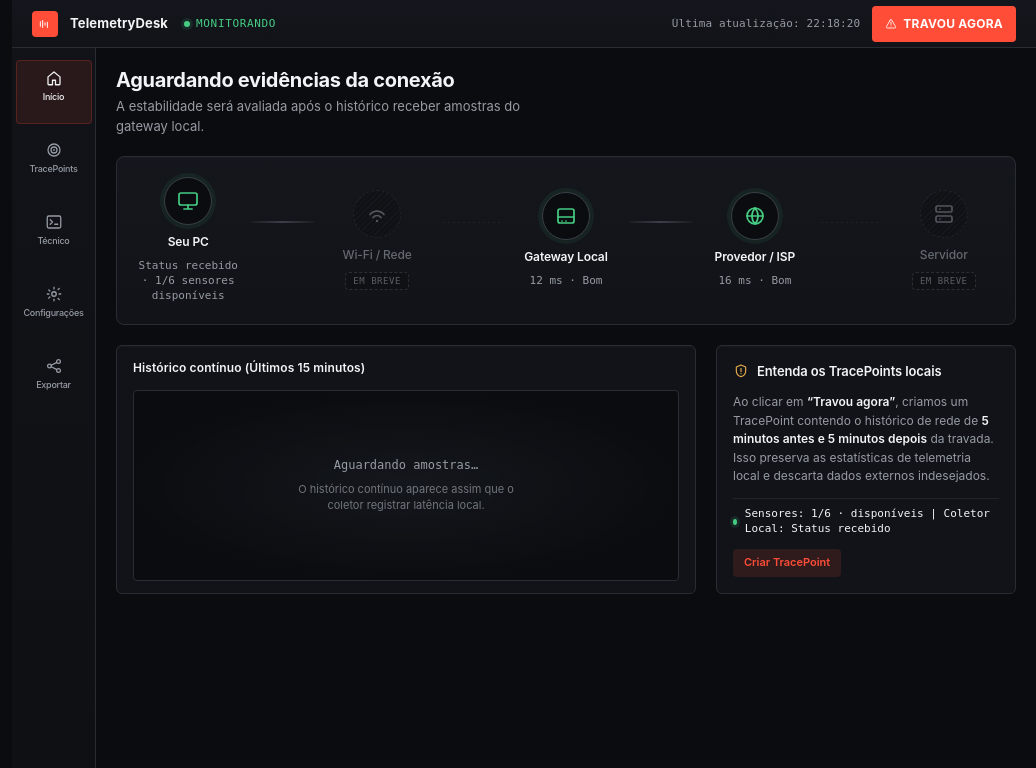
Test case: shows a recent manual TracePoint in the TracePoints section
Click the button "TracePoints" at (54, 164), box [16,132,92,196]
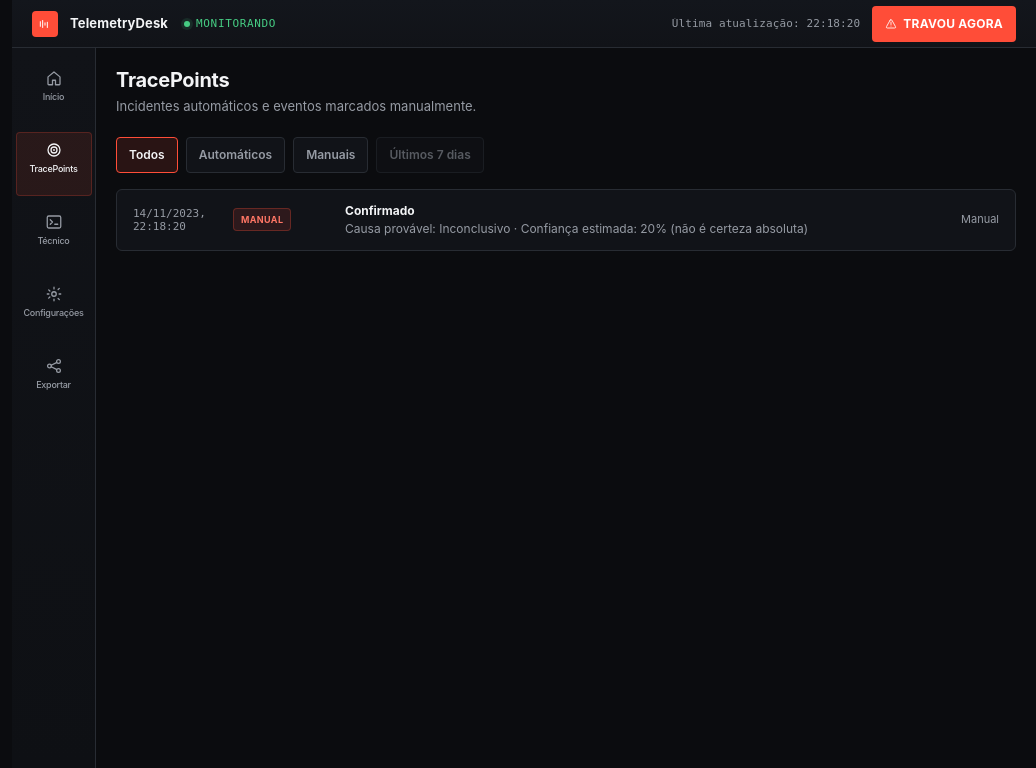
Expected: the 1st text "Manual" is shown, [233,208,291,231]
Expected: the text "Confirmado" is shown, [345,202,415,218]
Expected: the text "Causa provável: Inconclusivo · Confiança estimada: 20% (não é certeza absoluta)" is shown, [345,220,877,238]
